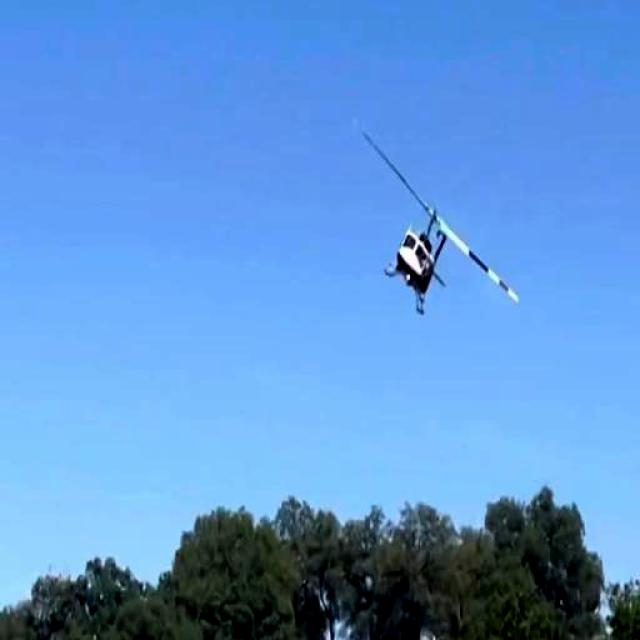drone: (344, 110, 525, 341)
